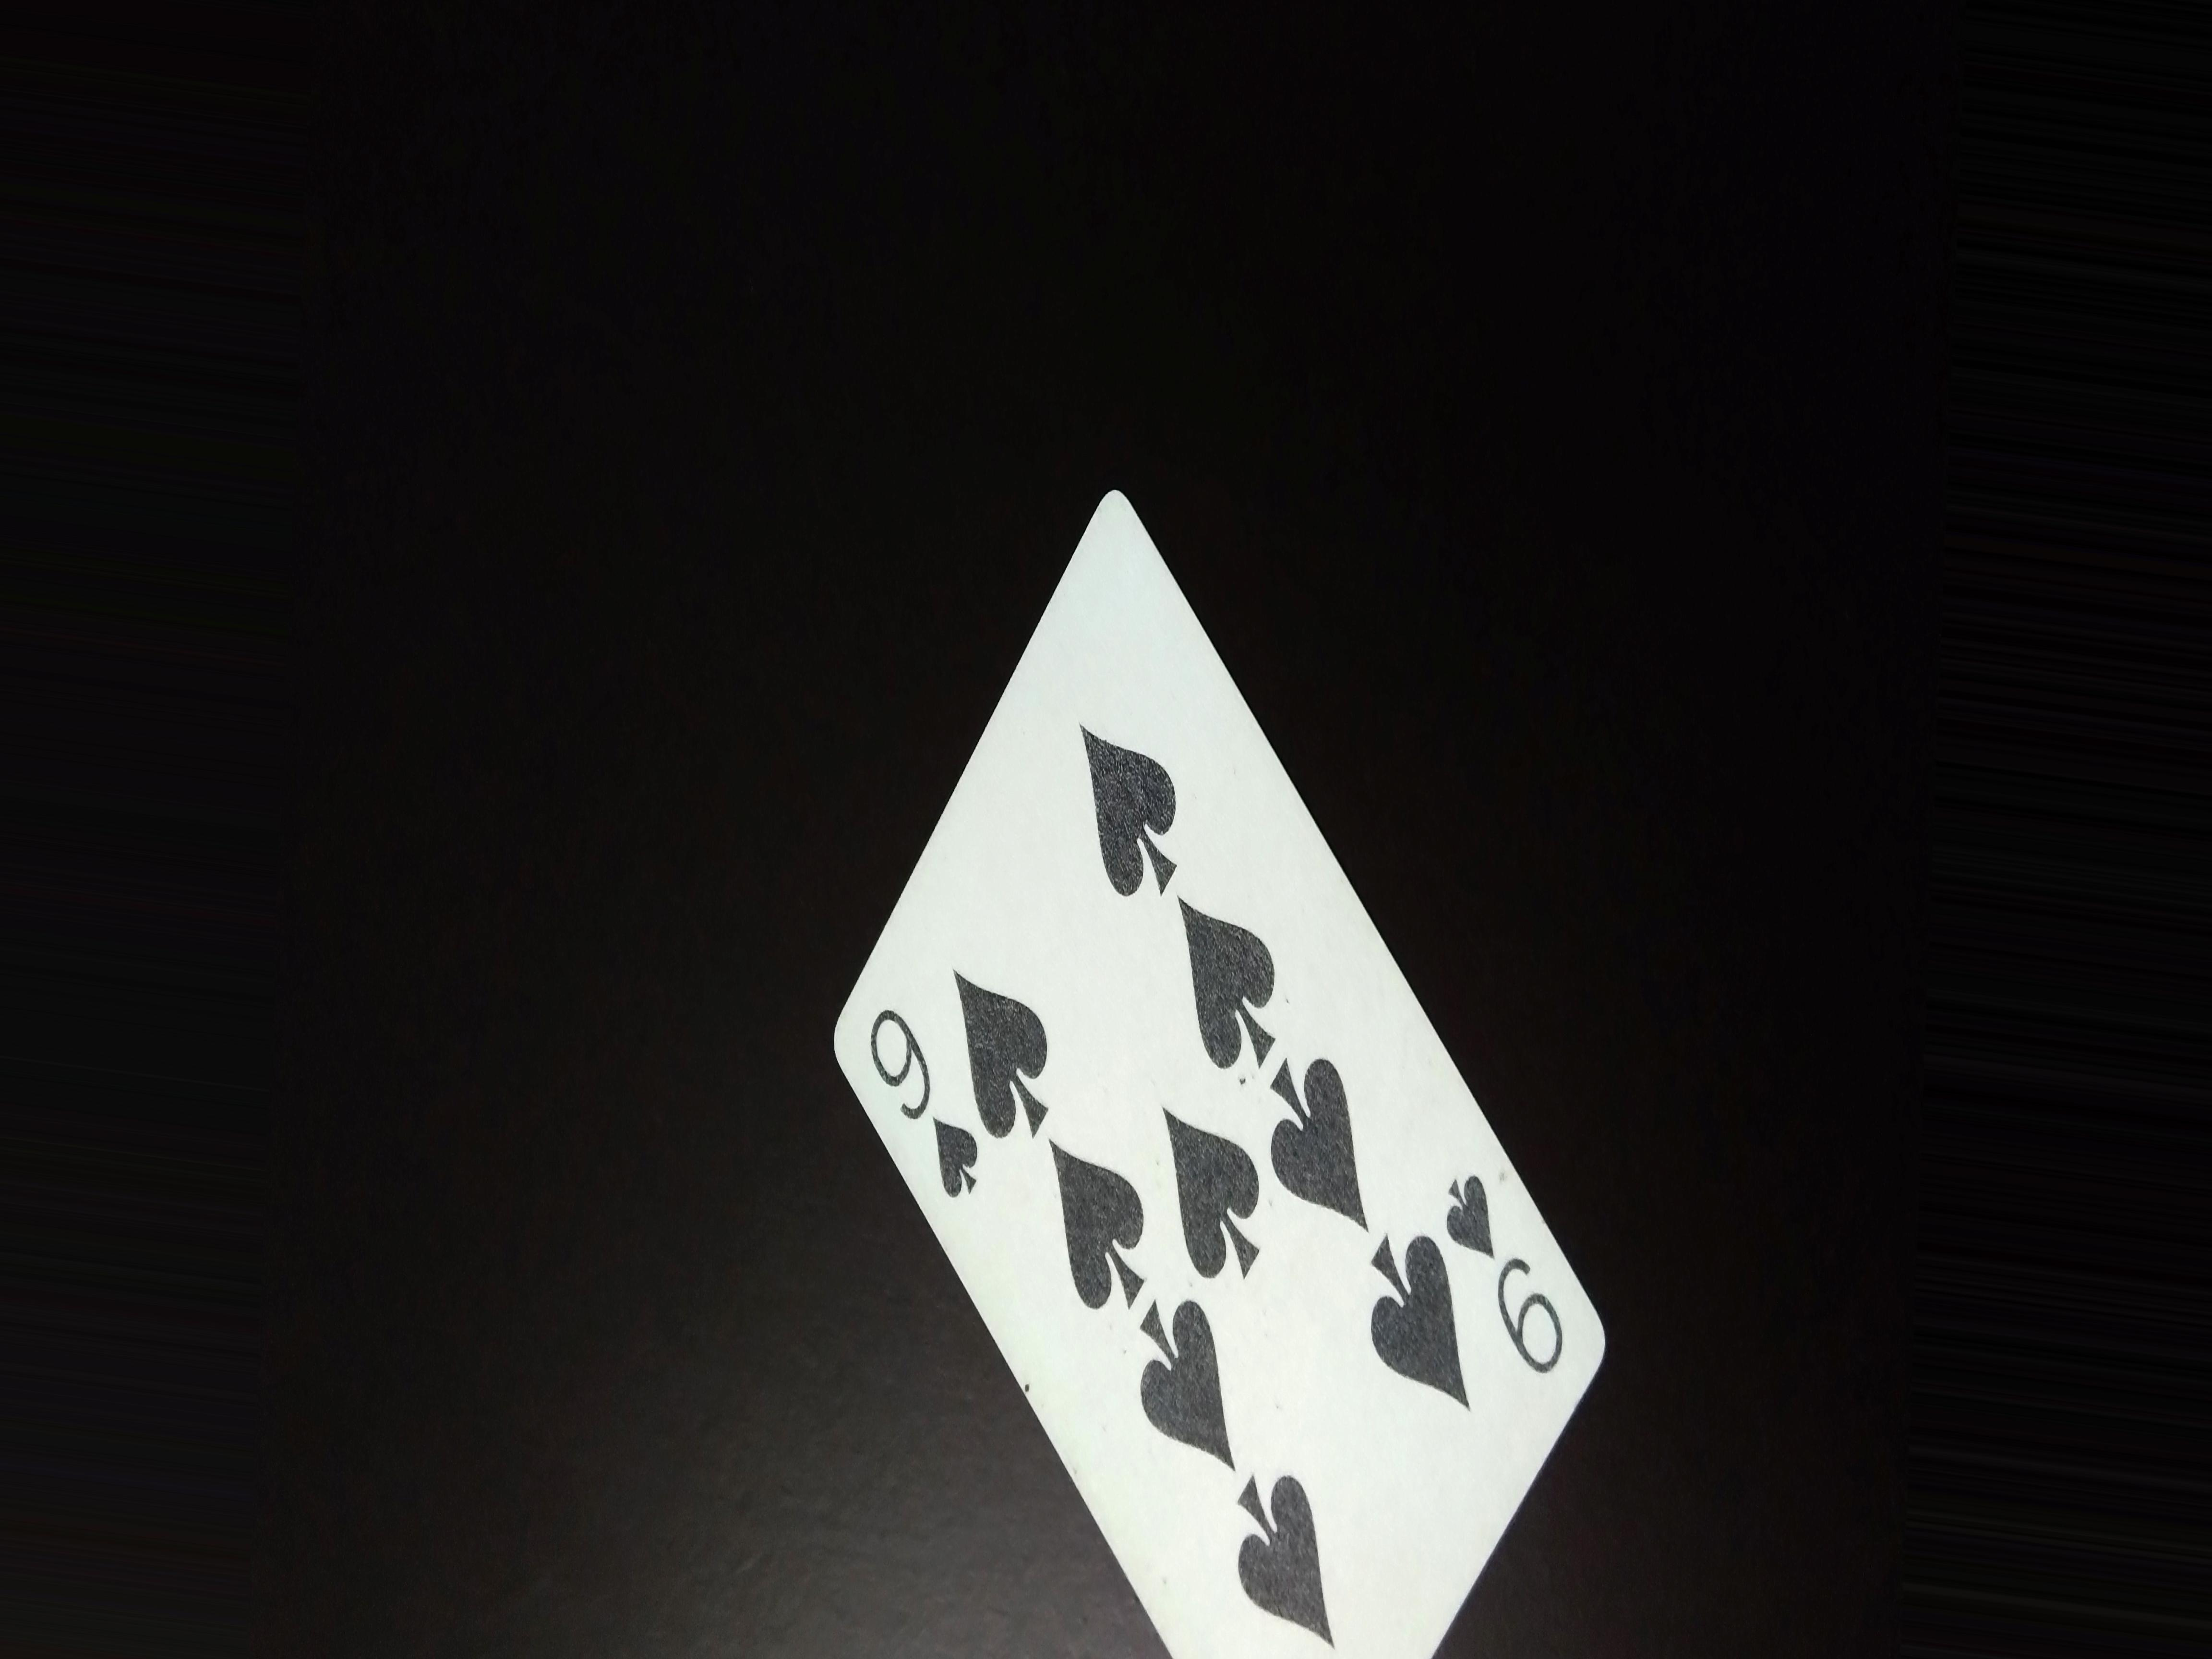9S: (848, 995, 1019, 1199)
